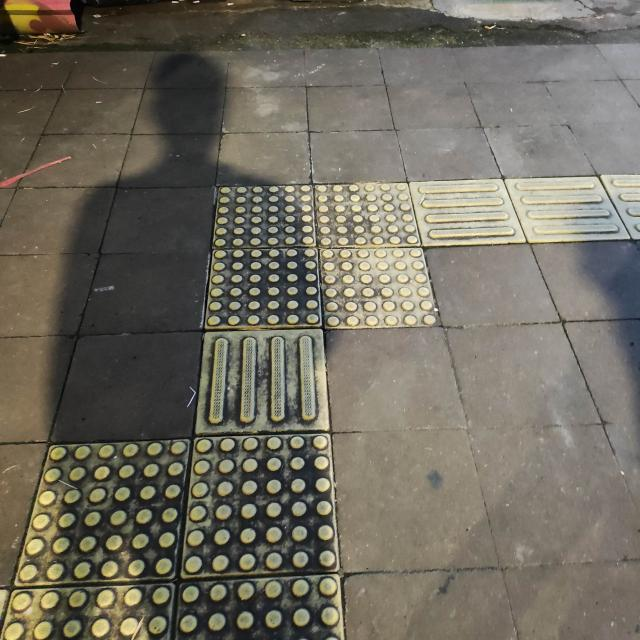kanan: (184, 148, 617, 402)
